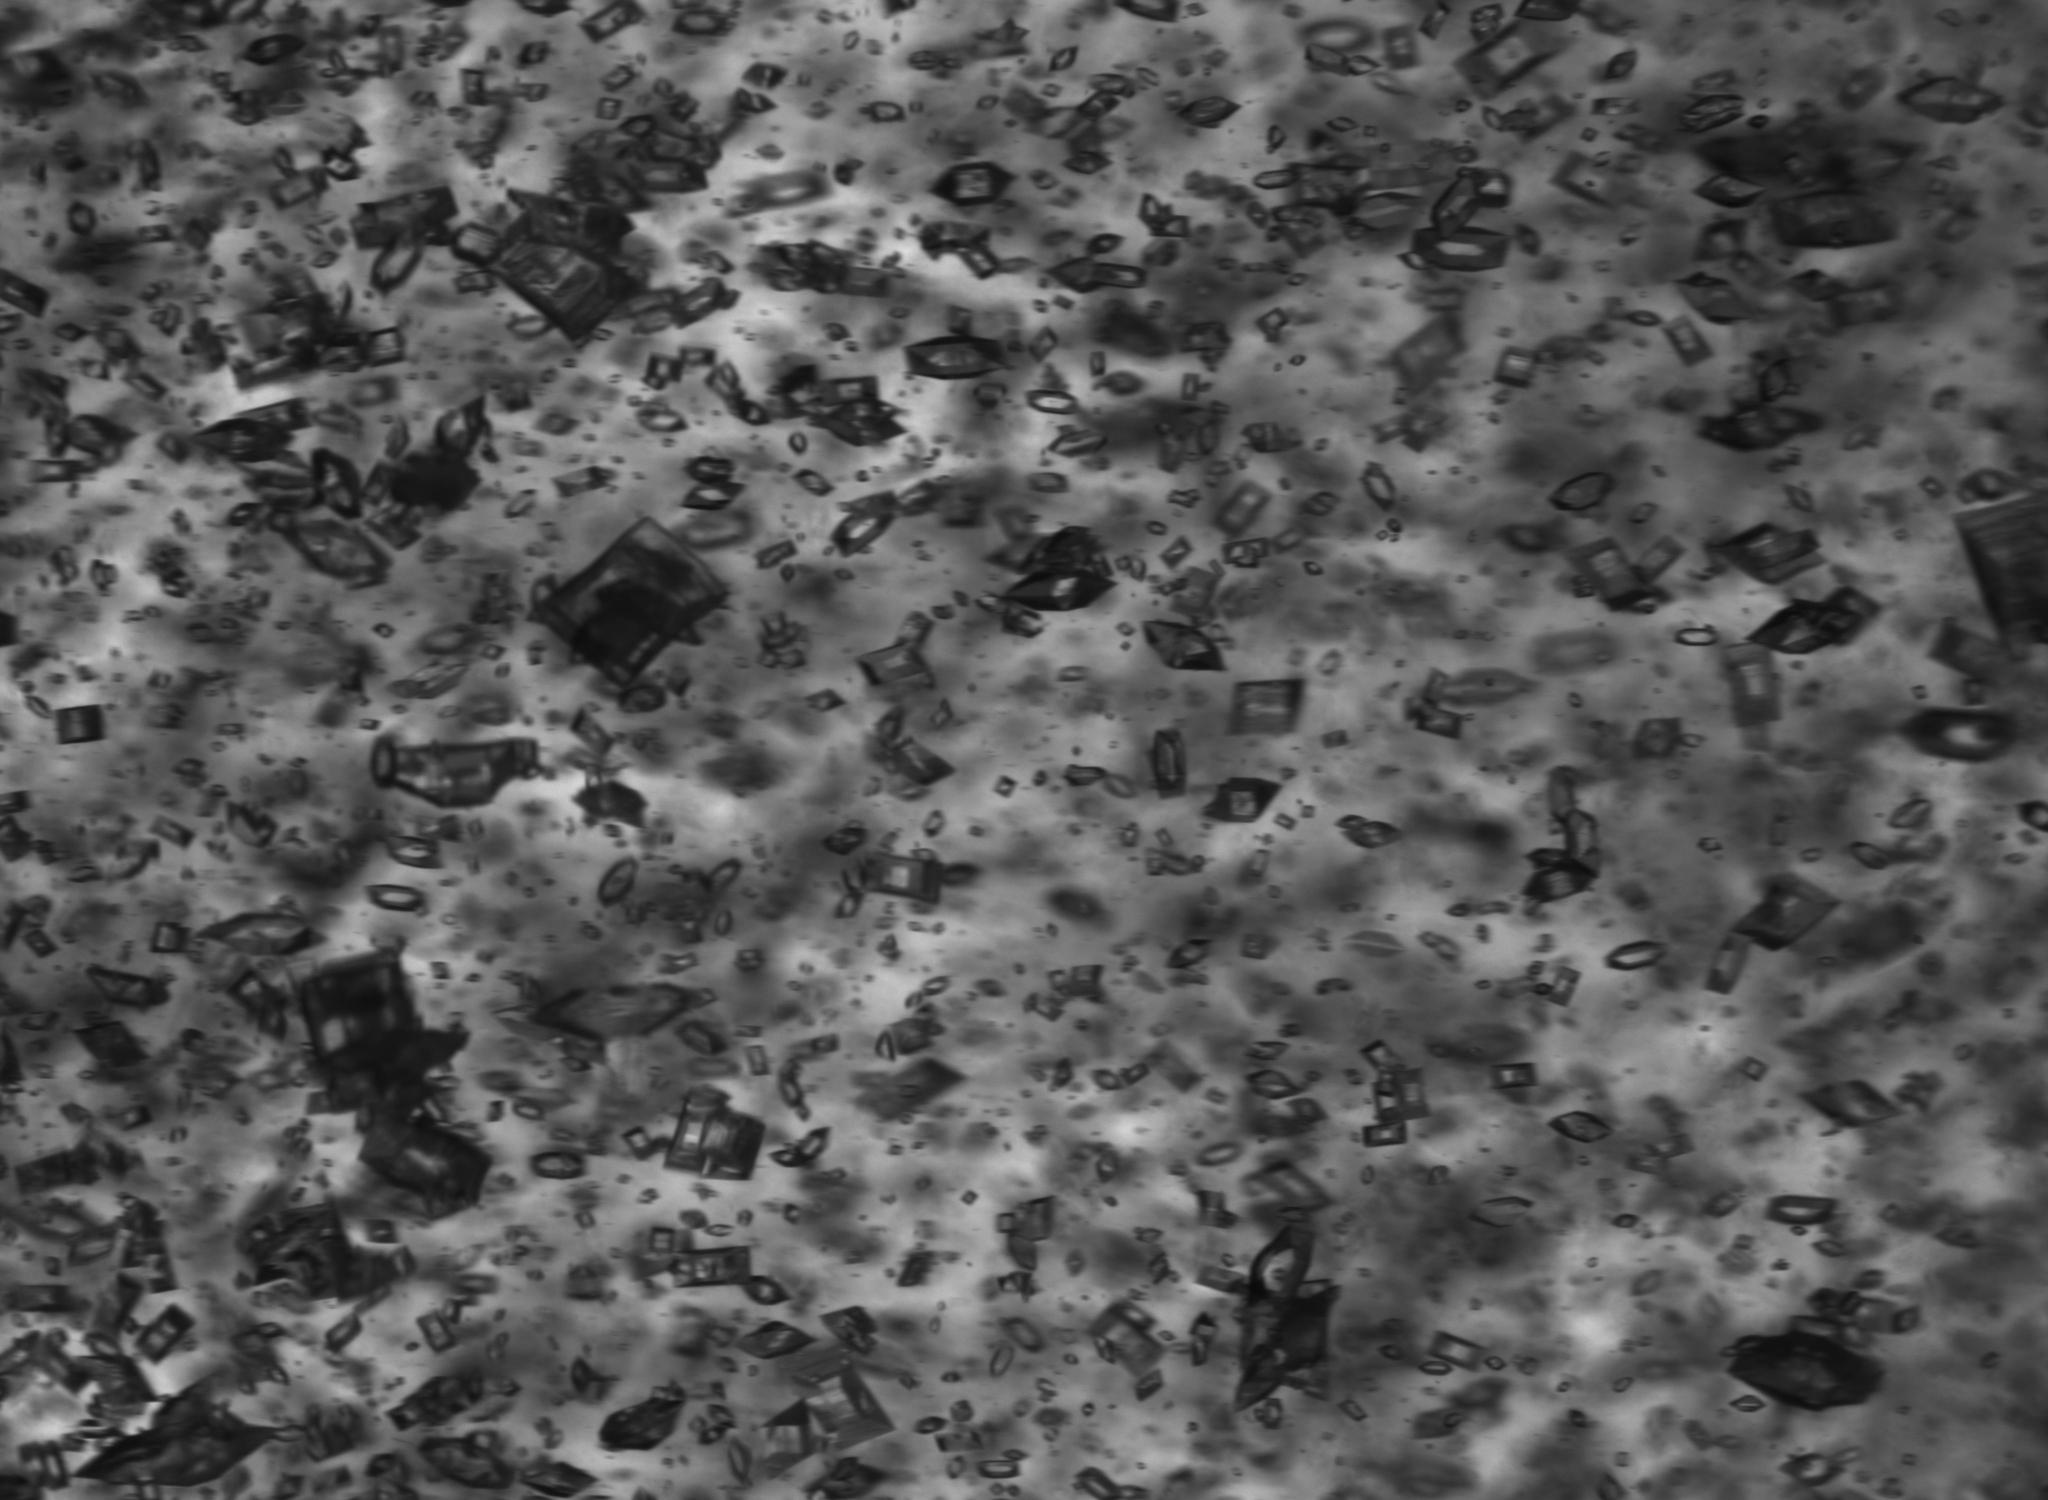crystal: (289, 948, 491, 1206), (531, 519, 728, 684), (1234, 1209, 1337, 1408), (479, 221, 644, 345), (76, 1389, 280, 1489), (234, 1199, 394, 1311), (1953, 487, 2048, 646), (1728, 1330, 1883, 1411), (370, 738, 541, 808), (787, 1352, 897, 1452), (1456, 0, 1568, 87), (526, 985, 692, 1043), (663, 1088, 765, 1180), (752, 242, 905, 299), (275, 512, 388, 587), (1747, 589, 1873, 655), (235, 290, 350, 363), (504, 188, 633, 251), (345, 185, 460, 253), (1765, 189, 1897, 248), (1738, 875, 1838, 951), (1563, 536, 1658, 614), (192, 399, 305, 463), (851, 608, 935, 689), (1712, 523, 1822, 585), (1080, 1303, 1167, 1379), (385, 1366, 487, 1430), (1700, 399, 1822, 452), (1902, 708, 2018, 762), (194, 911, 331, 956), (417, 1432, 518, 1490), (223, 334, 324, 393), (598, 1385, 685, 1452), (1431, 167, 1509, 239), (755, 1395, 817, 1483), (723, 165, 830, 216), (1002, 568, 1119, 611), (1549, 151, 1639, 207), (1676, 269, 1765, 324), (1899, 75, 1999, 124), (1394, 321, 1461, 394), (72, 1354, 161, 1408), (1250, 1158, 1334, 1214), (1410, 226, 1511, 272), (1725, 644, 1781, 725), (924, 161, 1018, 208), (862, 851, 944, 905), (1228, 678, 1305, 735), (921, 224, 1002, 278), (876, 736, 957, 791), (1228, 678, 1304, 735), (817, 399, 908, 447), (905, 336, 1002, 380), (366, 224, 425, 297), (1808, 1080, 1895, 1128), (665, 504, 752, 552), (1143, 620, 1224, 671), (87, 1271, 146, 1339), (25, 1336, 94, 1395), (1046, 255, 1145, 294), (828, 501, 897, 558), (246, 468, 324, 515), (574, 779, 649, 829), (1340, 191, 1429, 232), (1290, 161, 1374, 204), (84, 967, 172, 1008), (1517, 861, 1600, 903), (313, 445, 359, 522), (668, 278, 735, 331), (72, 1020, 151, 1063), (1204, 778, 1280, 822), (135, 1306, 194, 1363), (386, 659, 467, 700), (116, 1239, 180, 1292), (227, 969, 291, 1021), (1445, 665, 1531, 703), (674, 1245, 751, 1288), (490, 1005, 576, 1042), (1701, 932, 1751, 996), (436, 394, 483, 460), (520, 1460, 599, 1498), (67, 414, 140, 455), (625, 157, 708, 194), (1690, 170, 1768, 208), (1145, 729, 1188, 797), (1633, 533, 1685, 589), (1778, 266, 1851, 305), (1169, 563, 1218, 620), (14, 1148, 73, 1196), (0, 267, 52, 320), (813, 1459, 886, 1495), (1549, 471, 1612, 512), (580, 0, 644, 41), (364, 507, 425, 550), (568, 705, 615, 759), (889, 477, 948, 520), (738, 1322, 813, 1355), (819, 1306, 884, 1344), (1429, 1330, 1487, 1373), (65, 1222, 116, 1269), (240, 32, 308, 67), (1682, 94, 1744, 132), (227, 800, 277, 848), (1765, 1195, 1838, 1226), (1140, 192, 1189, 239), (781, 363, 819, 422), (1021, 107, 1088, 140), (49, 705, 105, 744), (380, 834, 440, 870), (1216, 484, 1264, 530), (1549, 1110, 1611, 1145), (1495, 345, 1541, 391), (270, 170, 326, 208), (1391, 1066, 1429, 1121), (1670, 315, 1712, 364), (817, 375, 879, 409), (596, 859, 641, 905), (1358, 1037, 1407, 1078), (553, 464, 614, 498), (453, 223, 501, 264), (1471, 1196, 1536, 1226), (1358, 463, 1398, 512), (679, 482, 747, 511), (1561, 810, 1598, 862), (421, 624, 479, 657), (114, 1195, 161, 1236), (634, 399, 688, 434), (1603, 940, 1665, 970), (890, 1013, 933, 1056), (358, 461, 398, 507), (1048, 429, 1108, 460), (148, 813, 196, 851), (1302, 40, 1350, 78), (1243, 1069, 1301, 1101), (1177, 99, 1243, 126), (320, 334, 369, 371), (1344, 931, 1406, 959), (751, 538, 800, 573), (676, 1021, 730, 1053), (1635, 717, 1678, 757), (1345, 821, 1404, 849), (1019, 1196, 1054, 1244), (1073, 89, 1121, 124), (1196, 1263, 1245, 1296), (367, 883, 425, 911), (1111, 1296, 1156, 1333), (1371, 1077, 1404, 1125), (1113, 0, 1180, 24), (1789, 1457, 1848, 1484), (11, 1285, 70, 1312), (739, 60, 789, 92), (1026, 387, 1080, 415), (1546, 966, 1581, 1008), (671, 10, 730, 35), (1000, 1317, 1045, 1350), (1417, 706, 1463, 738), (1643, 1133, 1697, 1160), (704, 857, 743, 896), (534, 1150, 585, 1179), (684, 455, 735, 484), (418, 1315, 458, 1352), (318, 146, 358, 183), (353, 375, 399, 406), (370, 328, 405, 367), (617, 684, 665, 713), (1024, 993, 1067, 1024), (1491, 1063, 1536, 1093), (840, 859, 875, 897), (1418, 0, 1452, 40), (19, 927, 59, 961), (820, 827, 867, 856), (1361, 1120, 1407, 1148), (0, 816, 29, 862), (386, 1242, 418, 1284), (1274, 205, 1325, 231), (1086, 72, 1134, 99), (1061, 151, 1115, 175), (310, 1467, 355, 1495), (126, 372, 172, 399), (633, 305, 676, 334), (1202, 1195, 1239, 1228), (110, 1104, 154, 1131), (747, 1276, 787, 1306), (99, 329, 145, 355), (1183, 323, 1229, 348), (797, 1126, 830, 1161), (1169, 940, 1212, 967), (1422, 666, 1449, 709), (1248, 422, 1286, 452), (646, 352, 684, 382), (792, 468, 833, 495), (1228, 539, 1269, 566), (735, 87, 776, 115), (1048, 43, 1081, 76), (1008, 1233, 1038, 1269), (805, 689, 848, 714), (1286, 1099, 1329, 1125), (1161, 536, 1193, 569), (452, 270, 496, 294), (1083, 1468, 1118, 1498), (151, 923, 186, 953), (666, 92, 701, 122), (599, 65, 636, 94), (1003, 609, 1041, 636), (859, 100, 905, 122), (1162, 426, 1185, 472), (692, 1056, 738, 1078), (1196, 1142, 1239, 1166), (1604, 49, 1636, 81), (1029, 329, 1059, 363), (68, 202, 97, 237), (1024, 471, 1069, 493), (1522, 848, 1569, 869), (1852, 843, 1891, 869), (626, 1128, 657, 1160), (477, 1071, 523, 1091), (45, 1451, 68, 1490), (1345, 52, 1385, 76), (700, 248, 735, 275), (736, 399, 771, 426), (617, 113, 654, 138), (30, 463, 83, 480), (159, 433, 189, 463), (1259, 309, 1290, 339), (461, 68, 485, 107), (1189, 1309, 1218, 1341), (1065, 765, 1108, 786), (17, 1012, 60, 1032), (728, 1440, 751, 1479), (1891, 805, 1930, 827), (164, 569, 194, 598), (515, 40, 549, 65), (1251, 170, 1296, 189), (1592, 99, 1639, 116), (366, 1220, 401, 1244), (227, 503, 262, 527), (539, 414, 579, 434), (1703, 1193, 1743, 1214), (507, 488, 536, 517), (1247, 1040, 1290, 1059), (329, 1320, 356, 1350), (1918, 474, 1948, 501), (89, 560, 116, 590), (1304, 492, 1340, 514), (1468, 3, 1504, 25), (665, 951, 701, 973), (161, 302, 183, 339), (994, 1271, 1030, 1293), (921, 808, 946, 840), (272, 1475, 304, 1500), (833, 892, 865, 918), (1673, 628, 1719, 646), (227, 105, 266, 126), (1396, 251, 1434, 272), (1197, 420, 1220, 455), (938, 1433, 983, 1451), (779, 1077, 806, 1106), (647, 1226, 676, 1253), (927, 701, 954, 730), (506, 318, 553, 334), (1086, 234, 1126, 253), (1119, 1061, 1151, 1085), (978, 1460, 1024, 1476), (1740, 1056, 1767, 1083), (184, 221, 210, 250), (138, 151, 159, 186), (364, 1454, 394, 1478), (1043, 969, 1073, 993), (1107, 775, 1138, 797), (975, 382, 1007, 404), (1627, 503, 1658, 525), (973, 593, 1010, 612), (1137, 1371, 1164, 1397), (0, 789, 29, 813), (949, 305, 972, 336), (994, 1344, 1014, 1376), (1770, 814, 1790, 846), (873, 1031, 894, 1063), (1247, 849, 1270, 876), (27, 695, 54, 719), (1151, 1252, 1170, 1285), (913, 1416, 946, 1435), (1089, 1071, 1123, 1090), (186, 624, 216, 644), (771, 1147, 806, 1164), (1321, 115, 1356, 132), (1169, 488, 1200, 507), (1813, 1241, 1851, 1257), (1336, 813, 1367, 832), (1320, 729, 1347, 751), (778, 649, 806, 670), (54, 323, 87, 340), (253, 1322, 286, 1339), (172, 759, 205, 776), (173, 35, 207, 52), (1070, 966, 1104, 983), (272, 1425, 308, 1441), (1264, 1398, 1283, 1428), (711, 1405, 735, 1428), (763, 612, 787, 636), (735, 950, 762, 970), (140, 224, 175, 240), (682, 347, 714, 364), (749, 1047, 768, 1075), (598, 97, 622, 119), (1482, 107, 1504, 130), (65, 865, 95, 883), (1094, 1338, 1115, 1363), (272, 145, 293, 170), (81, 359, 108, 379), (822, 321, 851, 339), (1153, 827, 1175, 849), (948, 1455, 968, 1479), (1342, 1400, 1366, 1420), (716, 910, 735, 935), (518, 1101, 544, 1120), (444, 1298, 461, 1325), (951, 1401, 973, 1422), (1964, 681, 1984, 703), (784, 1203, 805, 1225), (703, 1223, 735, 1238), (1193, 1338, 1208, 1366), (700, 1427, 725, 1444), (482, 643, 507, 660), (585, 764, 603, 789), (1137, 1228, 1164, 1244), (995, 776, 1016, 797), (1426, 1166, 1447, 1187), (302, 224, 324, 243), (1037, 1378, 1059, 1397), (359, 14, 378, 37), (1137, 67, 1159, 86), (1272, 813, 1296, 830), (572, 1210, 596, 1228), (1340, 1067, 1364, 1085), (1059, 666, 1088, 681), (1735, 1395, 1763, 1409), (216, 722, 245, 736), (1183, 374, 1199, 399), (925, 978, 951, 994), (1420, 1362, 1452, 1374), (1267, 126, 1283, 151), (528, 83, 547, 103), (1568, 1409, 1588, 1428), (735, 1024, 762, 1039), (816, 1036, 840, 1051), (1040, 83, 1064, 99), (1612, 1214, 1638, 1228), (561, 1058, 590, 1071), (429, 961, 450, 978), (843, 30, 860, 51), (1119, 827, 1137, 848), (790, 431, 806, 453), (372, 622, 394, 638), (315, 251, 339, 266), (1091, 352, 1105, 375), (1391, 387, 1409, 406), (1579, 126, 1598, 143), (1146, 519, 1167, 534), (1835, 1449, 1860, 1462), (1697, 837, 1722, 849), (1210, 460, 1232, 474), (1131, 558, 1145, 581), (975, 95, 997, 110), (960, 1190, 978, 1207), (999, 1212, 1014, 1231), (1487, 1355, 1506, 1371), (1002, 1449, 1029, 1460), (1733, 1236, 1755, 1249), (358, 717, 380, 730), (1361, 1163, 1374, 1185), (1805, 848, 1824, 862), (1533, 983, 1553, 996), (1302, 562, 1323, 574), (1286, 272, 1307, 285), (488, 1101, 502, 1118), (1749, 115, 1767, 129), (1118, 622, 1134, 636), (1387, 519, 1402, 533), (1614, 1379, 1630, 1392), (940, 1373, 960, 1382), (890, 305, 910, 315), (1034, 301, 1048, 313), (1116, 557, 1131, 569), (1290, 355, 1305, 366), (1081, 1403, 1094, 1416), (1364, 124, 1377, 137), (1302, 805, 1315, 818), (1555, 1382, 1569, 1393), (1914, 686, 1927, 697)
